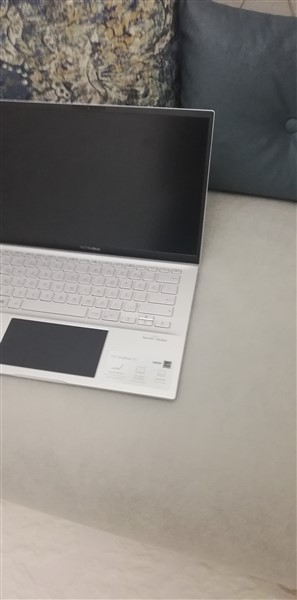laptop: (1, 96, 240, 403)
